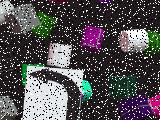Left: (22, 65, 83, 120)
